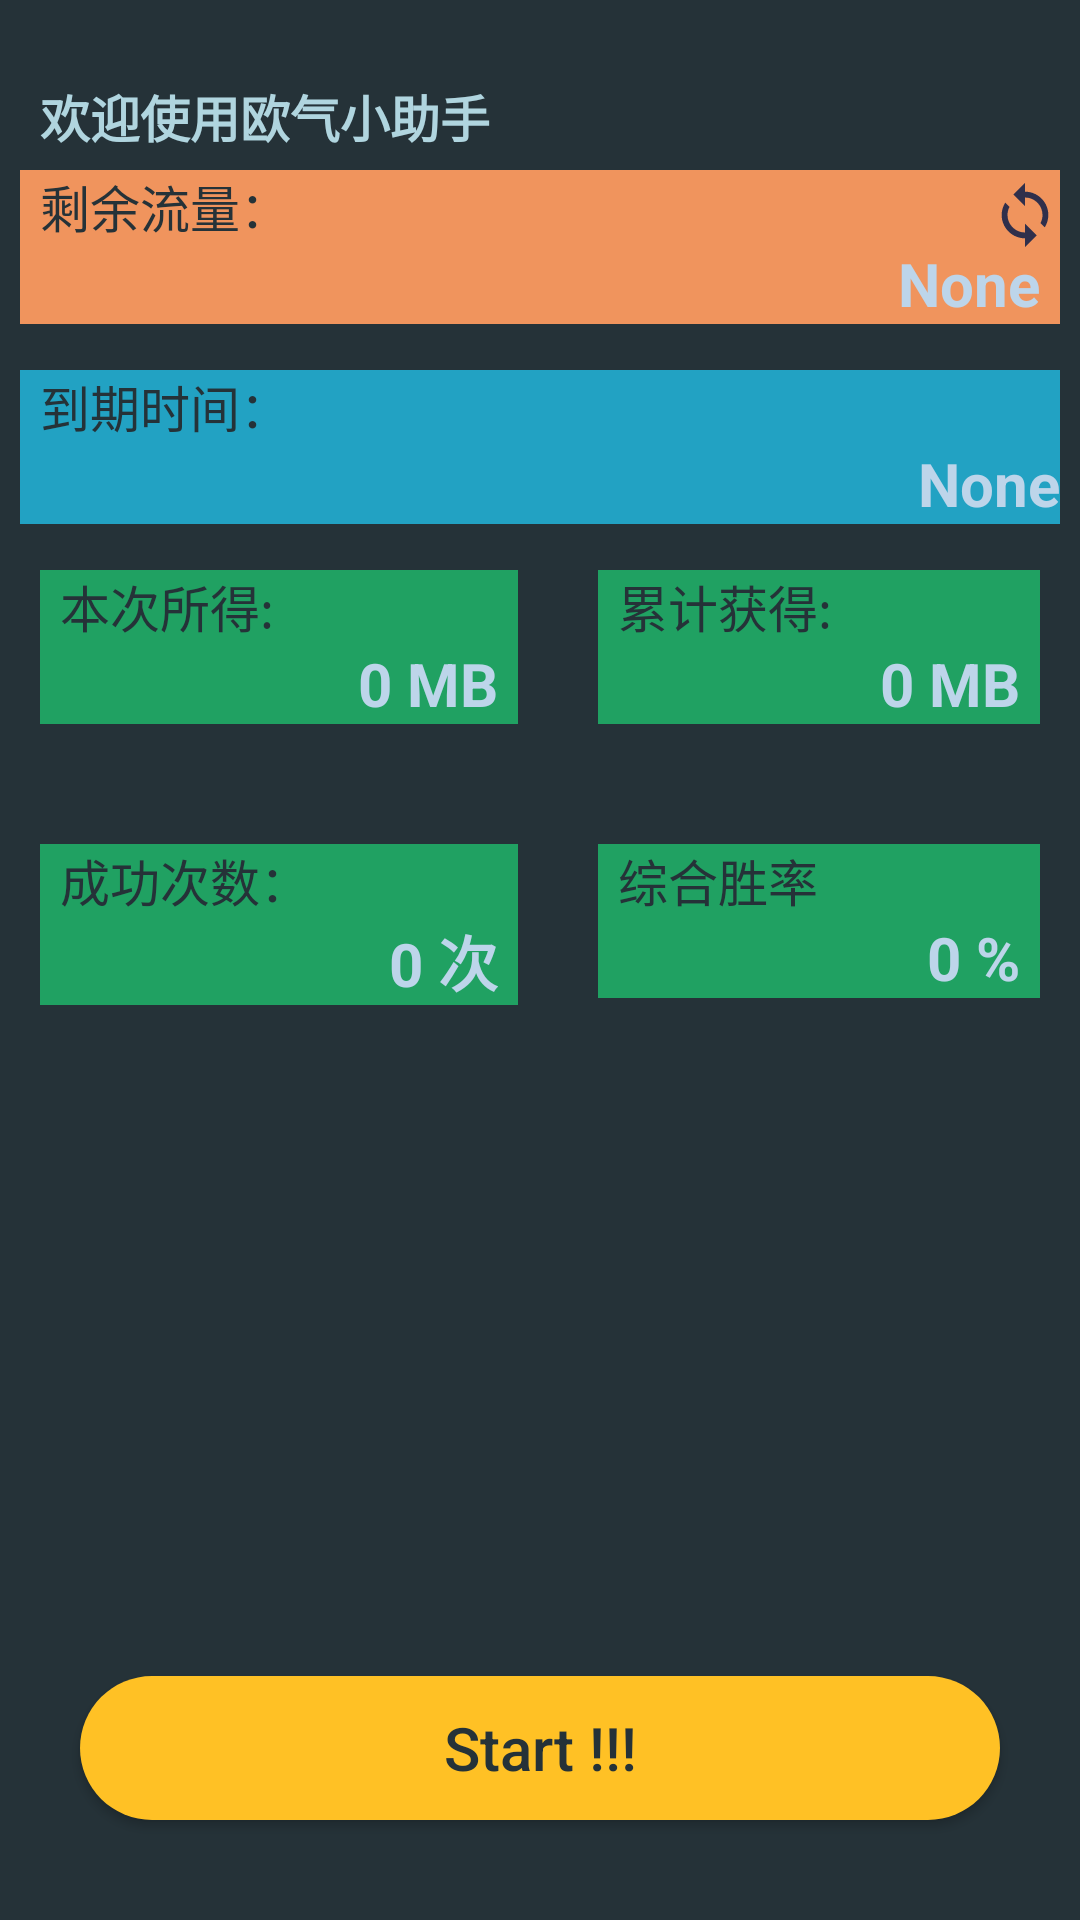

Icons on this 1080*1920 Android screen, each with its box as (x1,y1,x2,y2):
sync: (1001,183,1049,247)
